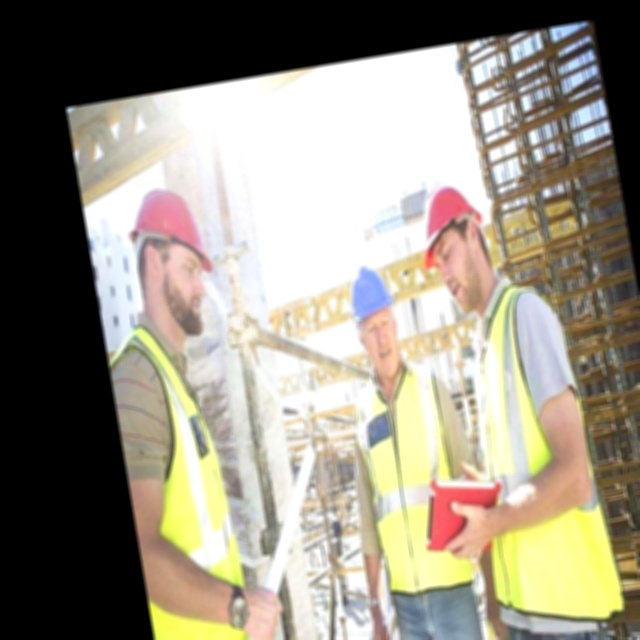Con_Casco: (344, 264, 406, 378)
Con_Chaleco: (444, 280, 621, 634), (349, 360, 474, 599)
